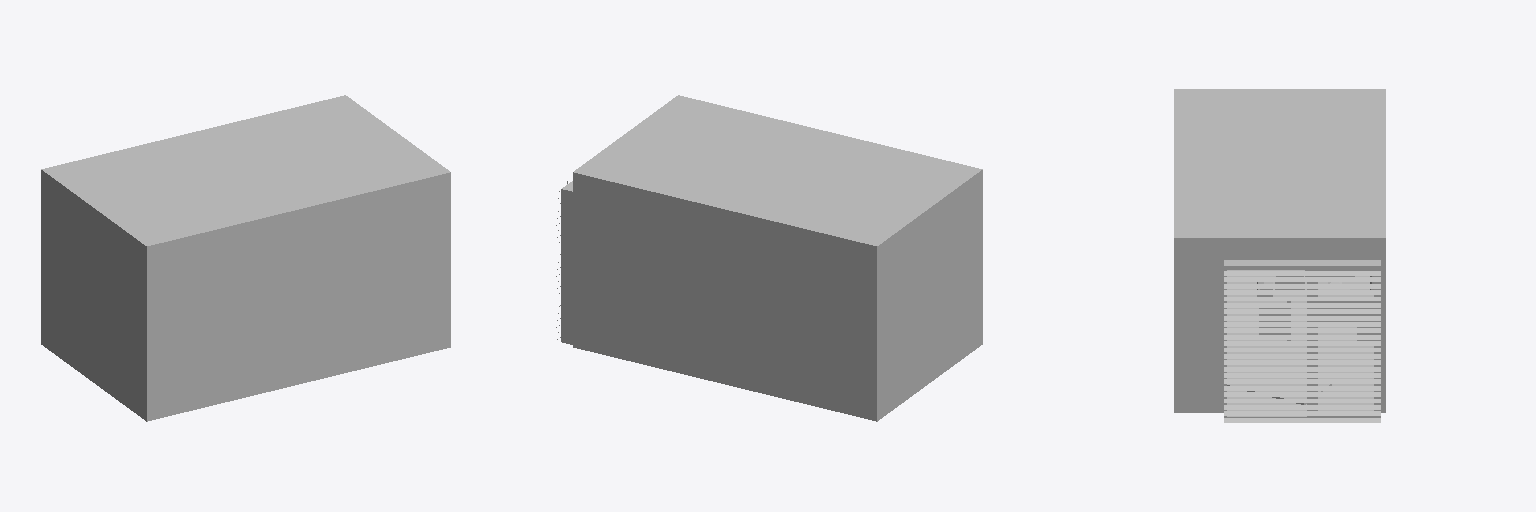
The model's file is szobaoptimize.obj.
The picture shows the model from 3 angles: view 1: azimuth 30°, elevation 25°; view 2: azimuth 150°, elevation 25°; view 3: azimuth 270°, elevation 25°; orthographic projection.
Visible parts, largest first — view 1: Plane; view 2: Plane; view 3: Plane, Plane.001, Plane.002_Plane.004, Cube.020_Cube.026.
Part boxes in pixels (left/top/right/bottom): Plane: left=41, top=95, right=450, bottom=421; Plane: left=563, top=95, right=982, bottom=421; Plane: left=1174, top=89, right=1385, bottom=416; Plane.001: left=1224, top=271, right=1380, bottom=422; Plane.002_Plane.004: left=1224, top=265, right=1380, bottom=417; Cube.020_Cube.026: left=1227, top=365, right=1331, bottom=404.
Size of the model in its own units: 5.32 by 2.75 by 3.